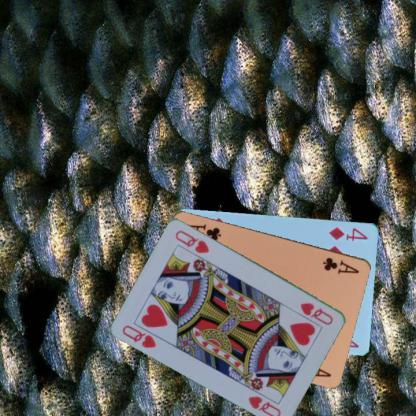4d: (326, 224, 369, 242)
Ac: (320, 254, 361, 275)
Qh: (120, 322, 158, 350), (298, 300, 334, 326)
